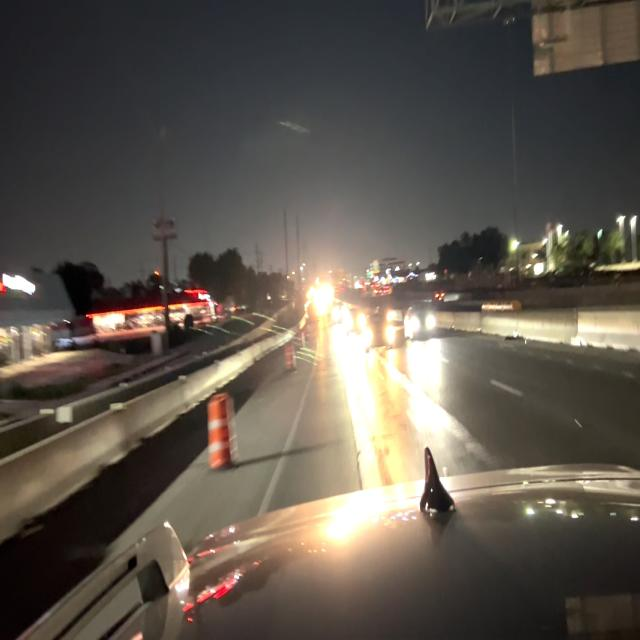back-of-sign: (420, 1, 640, 84)
